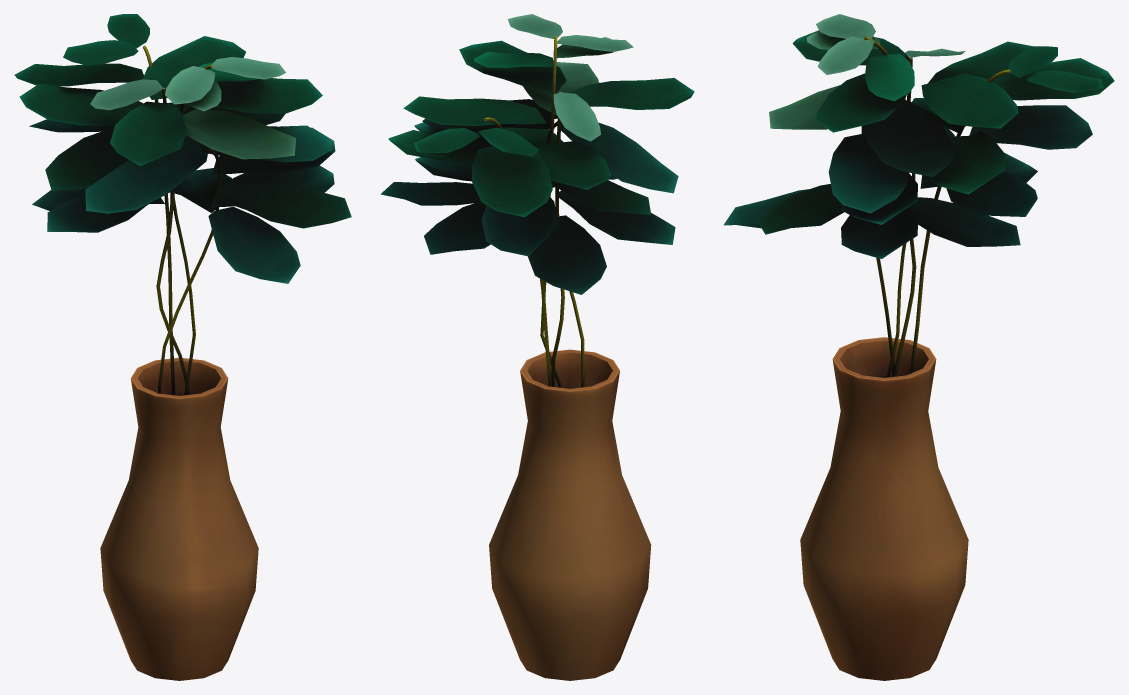
The model's file is plant_003.gltf.
3 renders of one model, left to right at view 1: azimuth 30°, elevation 25°; view 2: azimuth 150°, elevation 25°; view 3: azimuth 270°, elevation 25°, orthographic. The views are drawn at different scales.
Visible parts, largest first — view 1: PLAN003; view 2: PLAN003; view 3: PLAN003.
Boxes of the visible parts, left/top/right/bottom form: PLAN003: left=14, top=14, right=351, bottom=680; PLAN003: left=380, top=14, right=694, bottom=680; PLAN003: left=723, top=14, right=1114, bottom=680.
Bounding box in the file's own units: 1.08 × 2.28 × 1.27.
